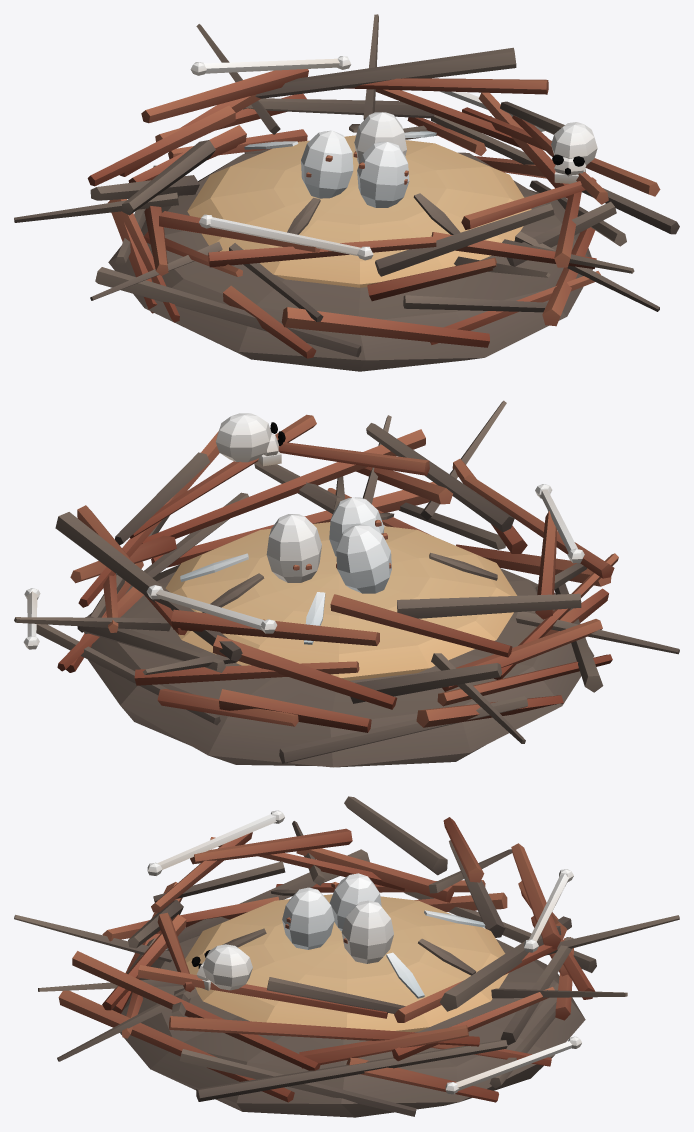
File: harpy_nest.glb
3 renders of one model, top to bottom at view 1: azimuth 30°, elevation 25°; view 2: azimuth 150°, elevation 25°; view 3: azimuth 270°, elevation 25°, orthographic. The views are drawn at different scales.
Parts seen in each view (by area): view 1: harpy_nest; view 2: harpy_nest; view 3: harpy_nest.
Boxes of the visible parts, x1,y1,x2,y2 form: harpy_nest: (14, 14, 679, 371); harpy_nest: (14, 400, 679, 767); harpy_nest: (14, 796, 679, 1117).
Size of the model in its own units: 3.42 by 1.14 by 3.8.
Materials: 1 (1 with a texture image).
